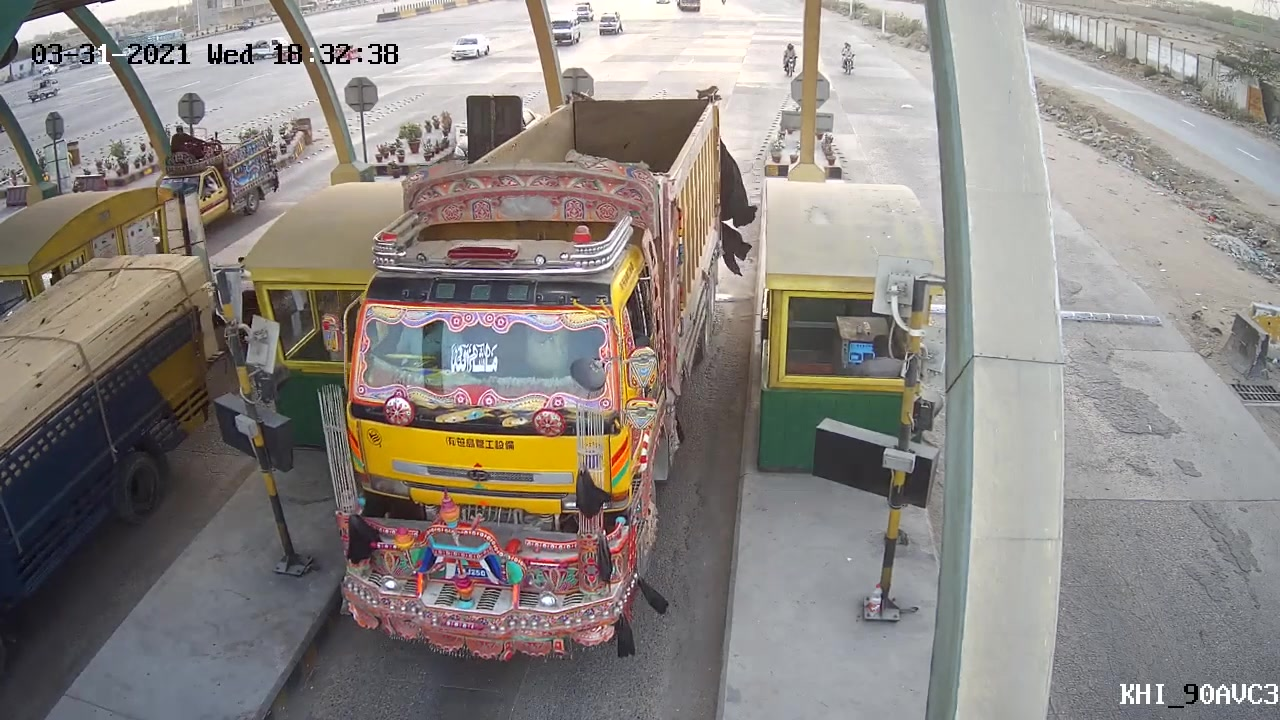F5: (311, 87, 732, 668)
